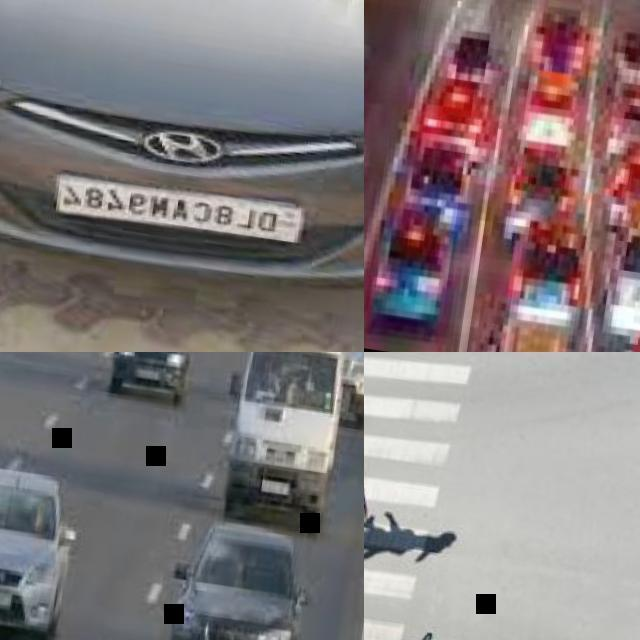car: (6, 0, 367, 266), (222, 357, 361, 529), (150, 519, 313, 639), (0, 447, 75, 639)
